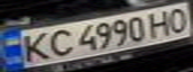0: (124, 14, 151, 43)
4: (75, 21, 96, 53)
9: (109, 17, 133, 47), (93, 19, 115, 51)
C: (42, 27, 75, 58)
H: (145, 8, 178, 37)
K: (15, 29, 54, 64)
O: (163, 4, 193, 34)
